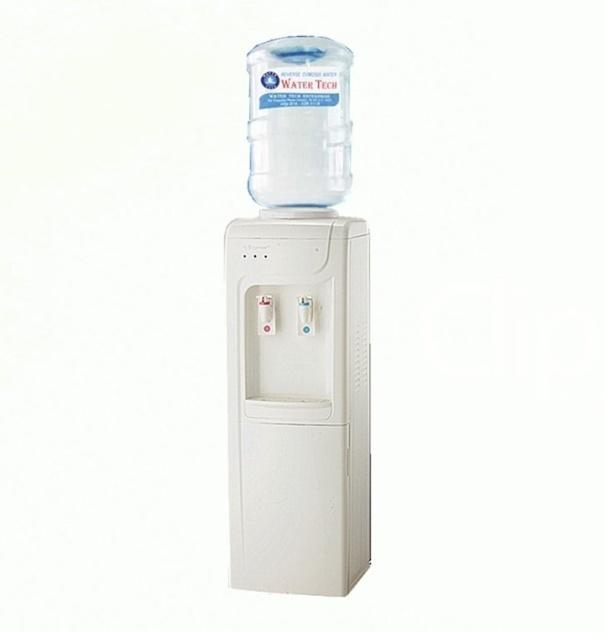Dispenser: (222, 35, 370, 597)
